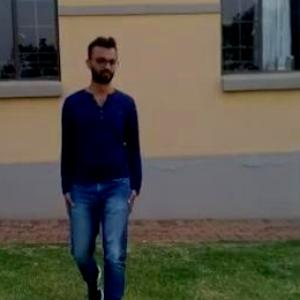follow: (53, 26, 145, 299)
